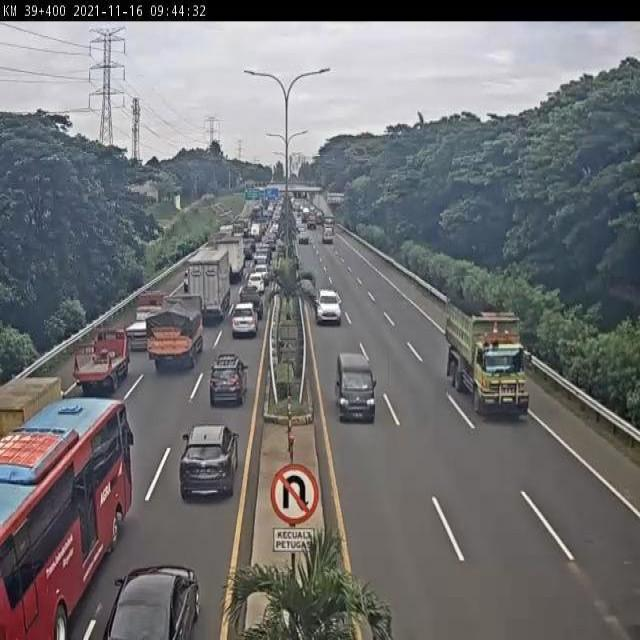big bus: (0, 397, 133, 640)
car: (178, 425, 240, 500), (336, 352, 375, 419), (208, 354, 250, 406), (238, 290, 265, 326), (315, 290, 340, 326), (232, 302, 257, 334), (247, 274, 266, 294)
small truck: (74, 323, 132, 389), (0, 372, 62, 432), (122, 292, 168, 355)
truck-l-: (446, 308, 529, 416), (187, 253, 230, 326)
truck-m-: (147, 298, 204, 371), (216, 239, 244, 280)
